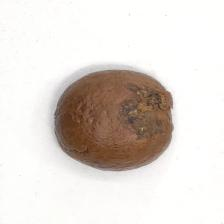NG: (122, 80, 173, 141)
